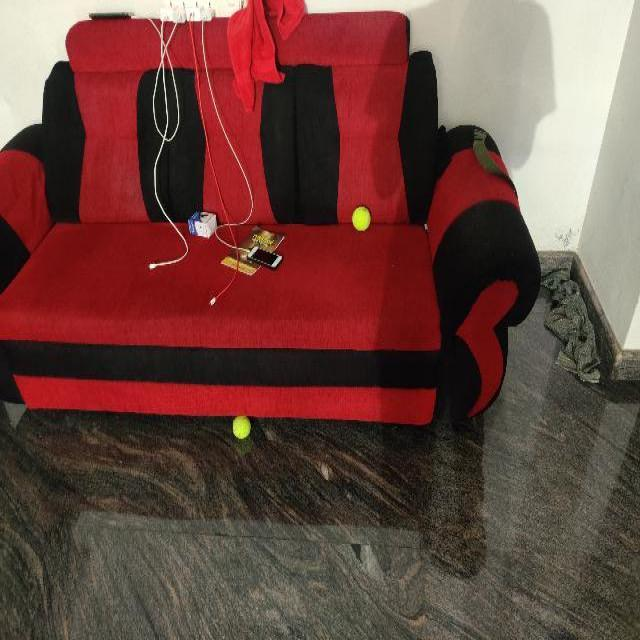tennis-ball: (352, 206, 371, 232), (232, 417, 250, 439)
